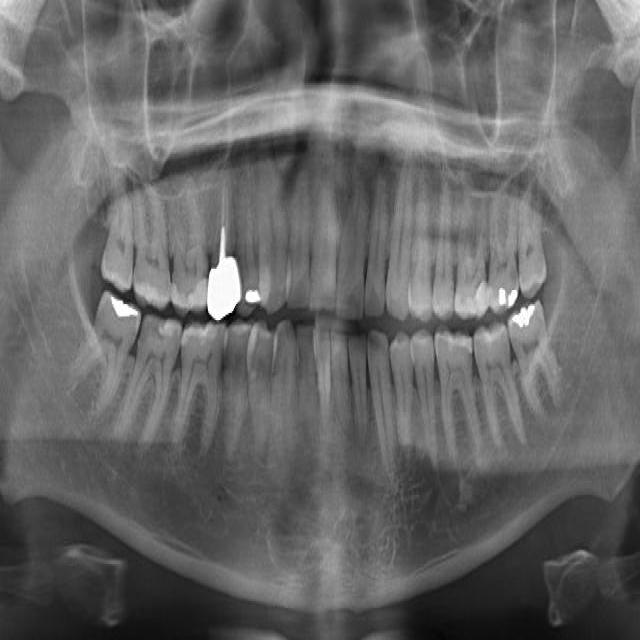dolgu: (99, 283, 145, 341), (494, 261, 523, 322), (506, 303, 546, 347), (241, 278, 266, 314)
kanal-tedavisi: (208, 174, 234, 258)
kaplama: (210, 256, 244, 326)
